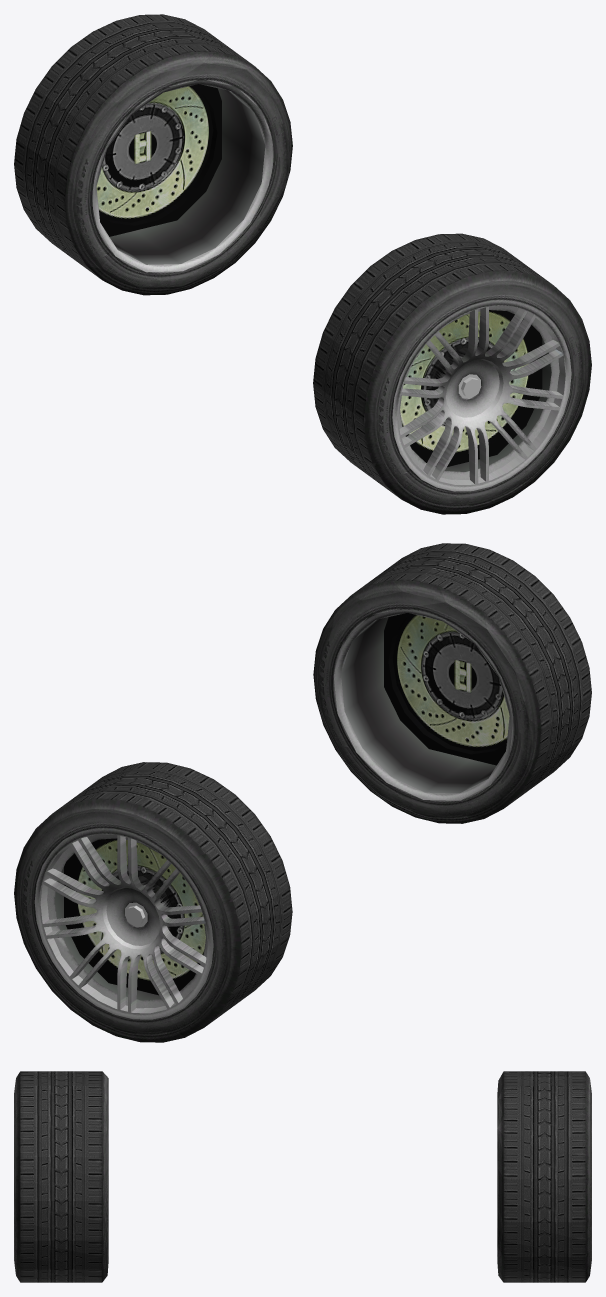
Rendered from rear_wheel.obj.
3 views of the same model, one above another, from view 1: azimuth 30°, elevation 25°; view 2: azimuth 150°, elevation 25°; view 3: azimuth 270°, elevation 25° (orthographic). The views are drawn at different scales.
Visible parts, largest first — view 1: (null); view 2: (null); view 3: (null).
Boxes of the visible parts, bbox=[...] form: (null): bbox=[14, 14, 591, 514]; (null): bbox=[14, 543, 591, 1042]; (null): bbox=[14, 1071, 591, 1282].
Size of the model in its own units: 2133 by 2112 by 5790.
5 materials, 4 textured.
